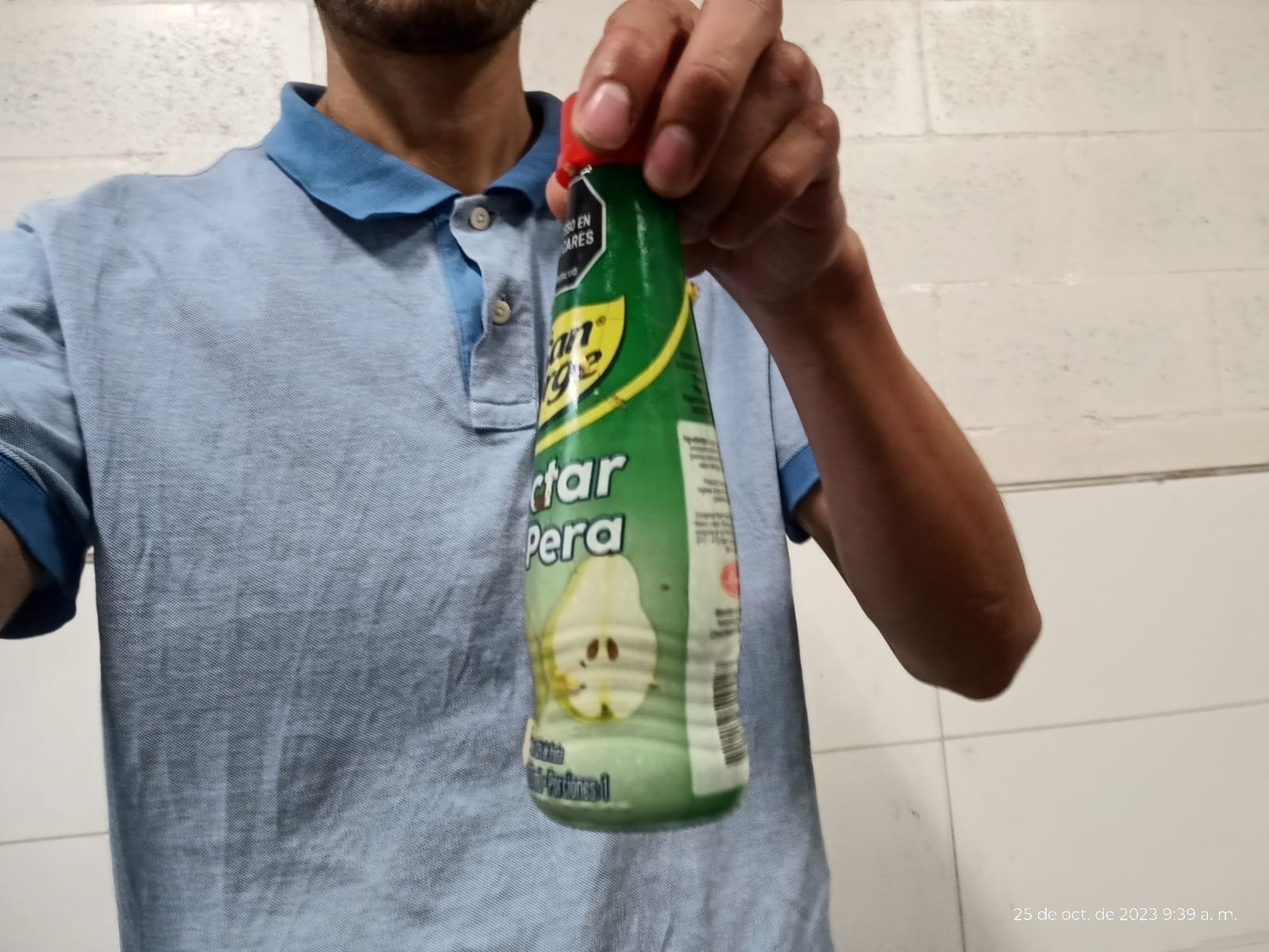Vidrio: (522, 90, 750, 835)
